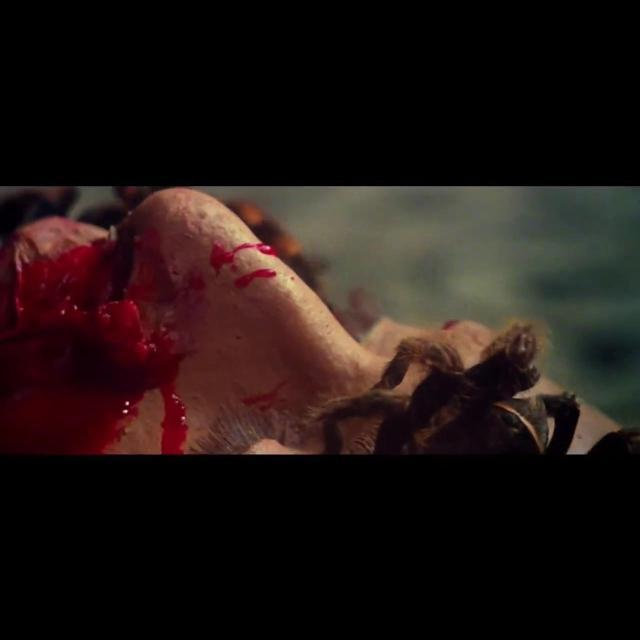blood: (0, 229, 206, 454), (209, 241, 299, 289)
